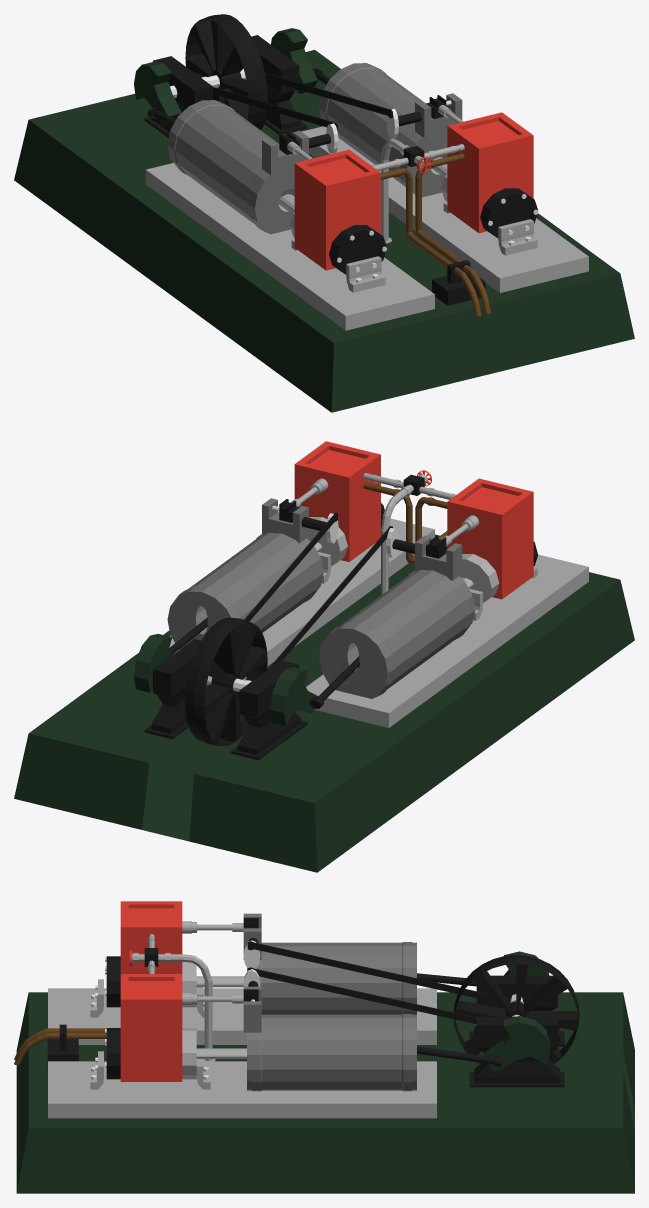
File: Engine.fbx
3 renders of one model, top to bottom at view 1: azimuth 30°, elevation 25°; view 2: azimuth 150°, elevation 25°; view 3: azimuth 270°, elevation 25°, orthographic. The views are drawn at different scales.
Visible parts, largest first — view 1: Ground, Cube.005, Cylinder, Cube.003, Circle.001, Cube.011, Cylinder.002, Circle.002, Cylinder.004, Cube.008, Cube.004, Cube.010 (+5 smaller); view 2: Ground, Cylinder, Cube.005, Cube.003, Circle.001, Cube.011, Circle.002, Cube.008, Cylinder.001, Cube.010, Cylinder.004, Cylinder.011 (+3 smaller); view 3: Ground, Cylinder, Cube.005, Cube.003, Cube.011, Circle.001, Cube.010, Circle.002, Cylinder.001, Cylinder.002, Cube.004, Cube.008 (+6 smaller).
Boxes of the visible parts, x1,y1,x2,y2 form: Ground: (14,50,634,412); Cube.005: (145,126,588,330); Cylinder: (167,63,447,234); Cube.003: (294,112,533,270); Circle.001: (185,14,267,129); Cube.011: (144,35,307,137); Cylinder.002: (329,188,537,274); Circle.002: (134,28,317,127); Cylinder.004: (381,153,490,316); Cube.008: (262,93,462,175); Cube.004: (291,202,537,292); Cube.010: (213,73,392,131); Ground: (14,534,634,872); Cylinder: (167,533,474,698); Cube.005: (169,518,588,727); Cube.003: (294,441,533,599); Circle.001: (185,617,267,746); Cube.011: (144,639,307,760); Circle.002: (134,634,317,725); Cube.008: (262,498,462,580); Cylinder.001: (307,517,499,602); Cube.010: (213,512,392,669); Cylinder.004: (363,482,447,563); Cylinder.011: (168,617,360,708); Ground: (16,992,634,1193); Cylinder: (247,942,416,1091); Cube.005: (48,988,436,1118); Cube.003: (120,901,182,1081); Cube.011: (469,975,564,1087); Circle.001: (453,955,579,1064); Cube.010: (247,941,510,1023); Circle.002: (484,951,550,1072); Cylinder.001: (182,956,246,1079); Cylinder.002: (106,956,120,1079); Cube.004: (90,979,210,1089); Cube.008: (243,913,261,1032).
Bounding box in the file's own units: 986 × 546 × 1797.
